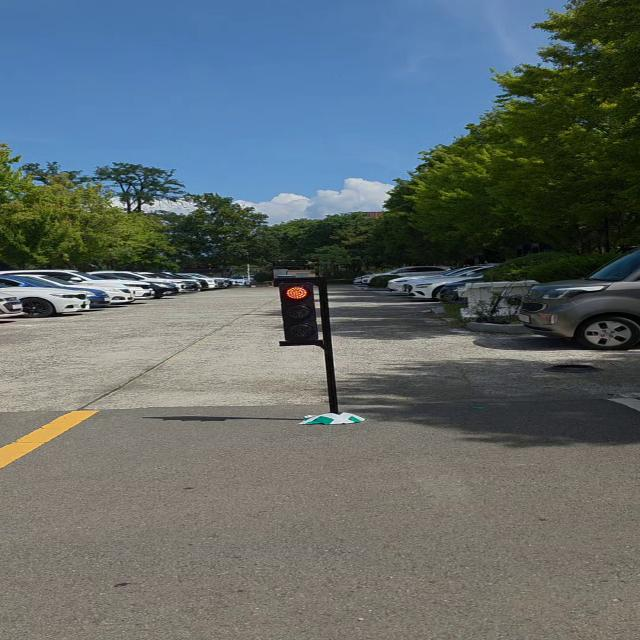red: (265, 279, 337, 347)
